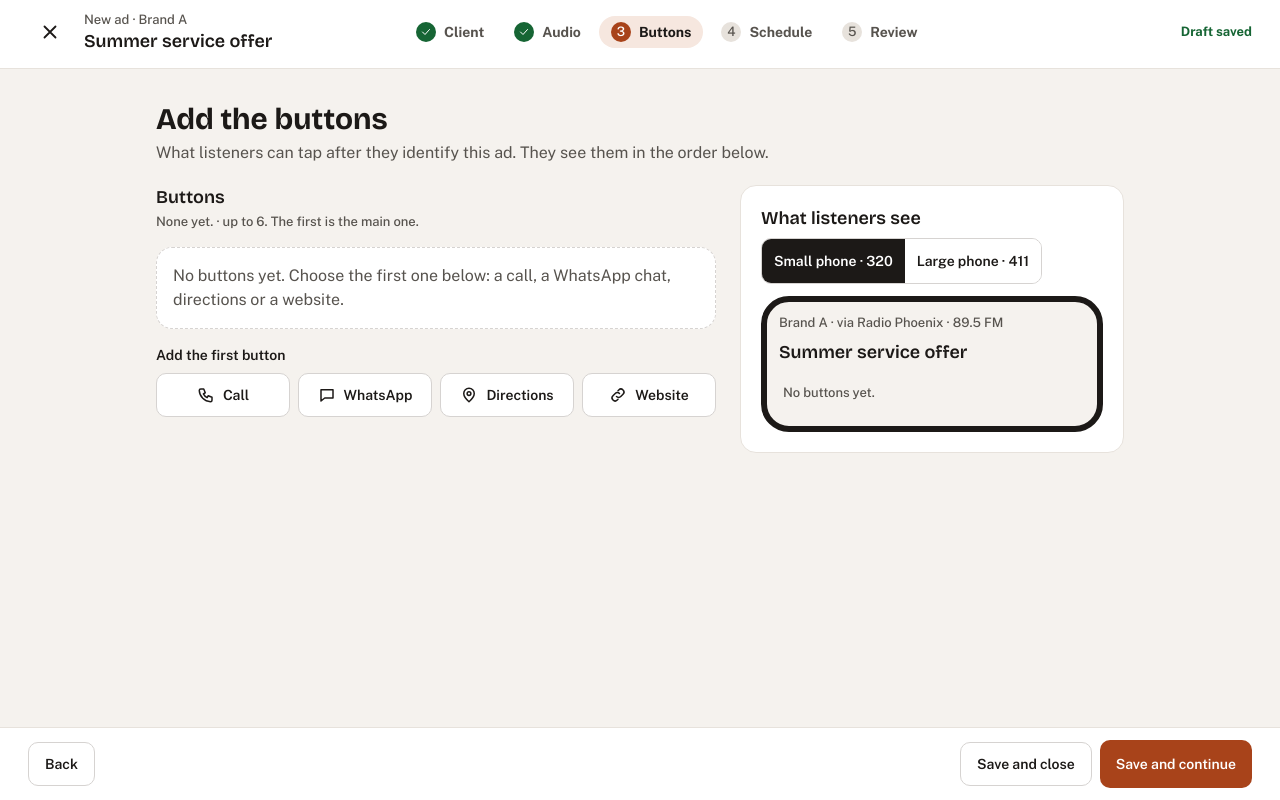
The buttons step › adding and changing a button › shows how many characters of the label are used
Expected: the heading "Add the buttons" is shown, [156,101,388,137]
Click the button with aria-label "Add a Call button".
click(223, 395)  # box [156,373,290,417]
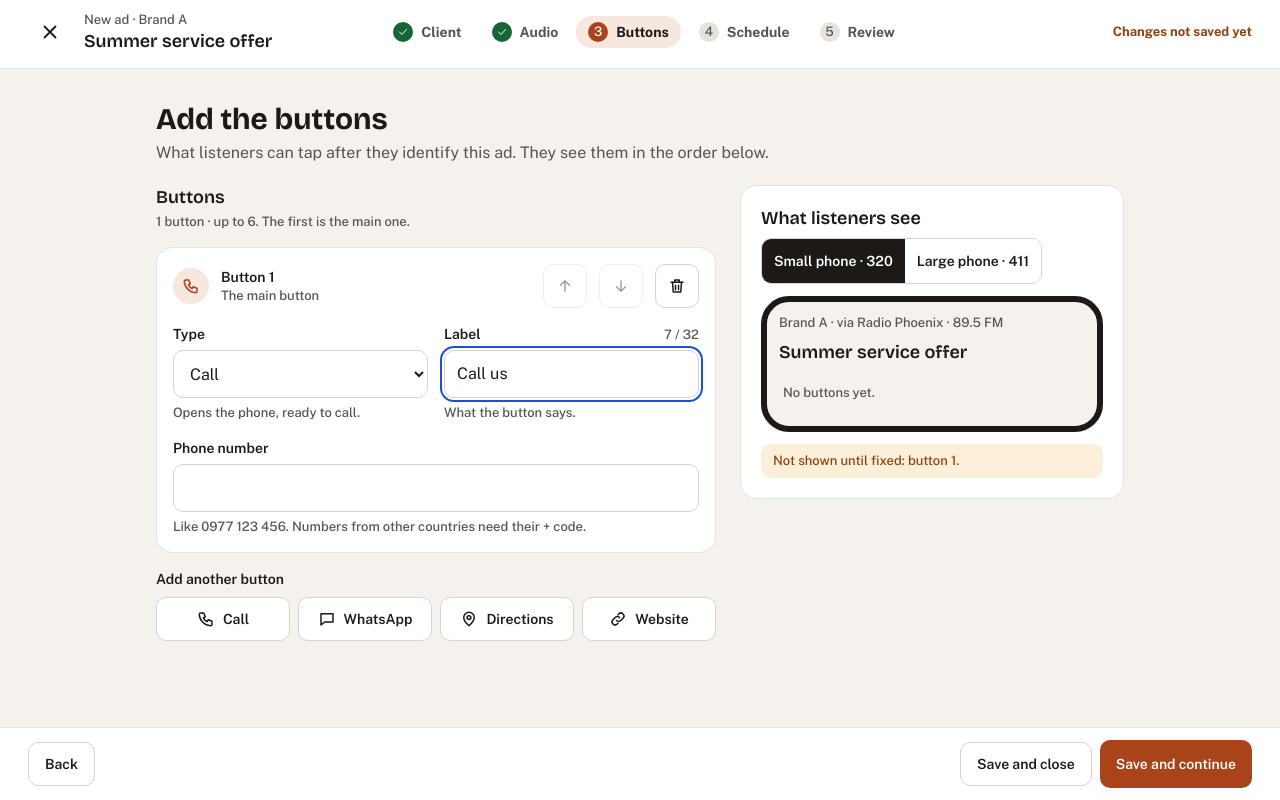
Expected: the text "7 / 32" is shown, [664,326,699,344]
